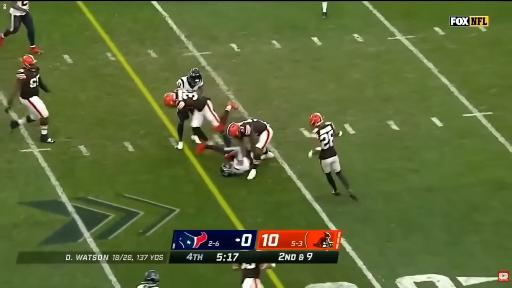Helmet: (314, 232, 333, 247), (187, 68, 202, 86), (143, 271, 159, 284), (22, 55, 36, 69), (310, 113, 323, 127), (227, 123, 240, 137), (220, 163, 232, 176), (164, 93, 176, 106)
Jersey: (312, 123, 337, 159), (16, 68, 39, 99), (176, 90, 209, 111), (239, 119, 269, 137), (177, 76, 203, 90), (241, 264, 261, 282), (234, 157, 251, 174), (10, 8, 25, 15), (138, 284, 158, 287)
Player: (308, 113, 357, 200), (6, 55, 54, 143), (164, 89, 237, 145), (227, 119, 273, 179), (0, 2, 41, 53), (197, 144, 250, 176), (233, 264, 275, 287), (177, 68, 203, 95), (177, 110, 190, 149), (138, 271, 159, 287)
